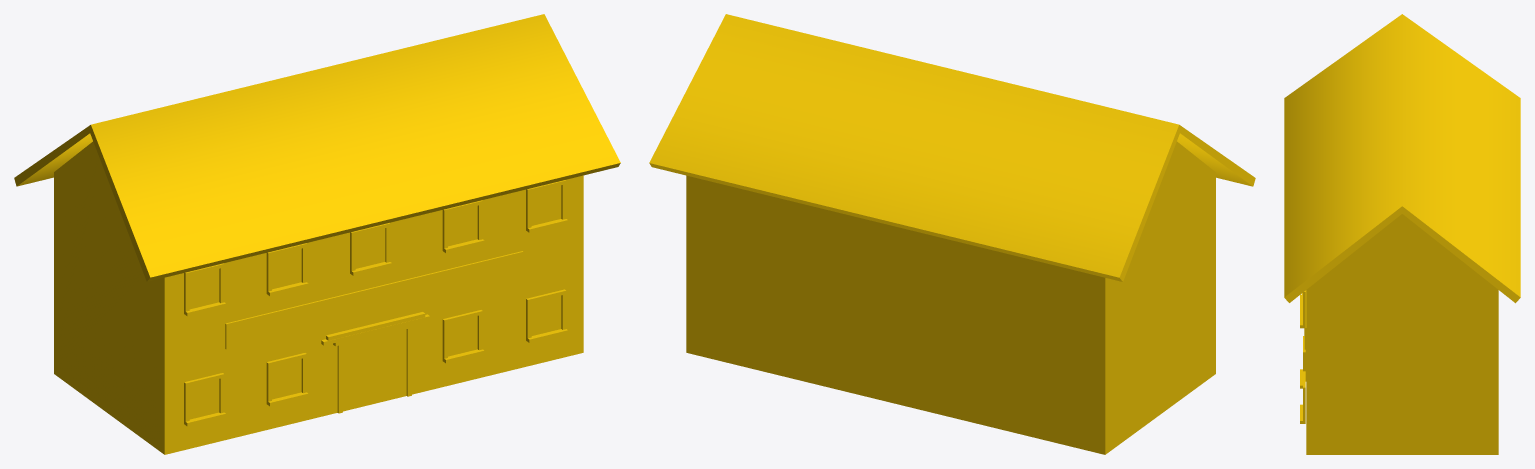
Rendered from School.FBX.
3 views of the same model, side by side, from view 1: azimuth 30°, elevation 25°; view 2: azimuth 150°, elevation 25°; view 3: azimuth 270°, elevation 25° (orthographic). The views are drawn at different scales.
Parts seen in each view (by area): view 1: School; view 2: School; view 3: School.
Part boxes in pixels (box(x1,y1,x2,y2)): School: box(14, 14, 620, 454); School: box(649, 14, 1255, 454); School: box(1284, 14, 1520, 454).
Size of the model in its own units: 293 by 175 by 147.
